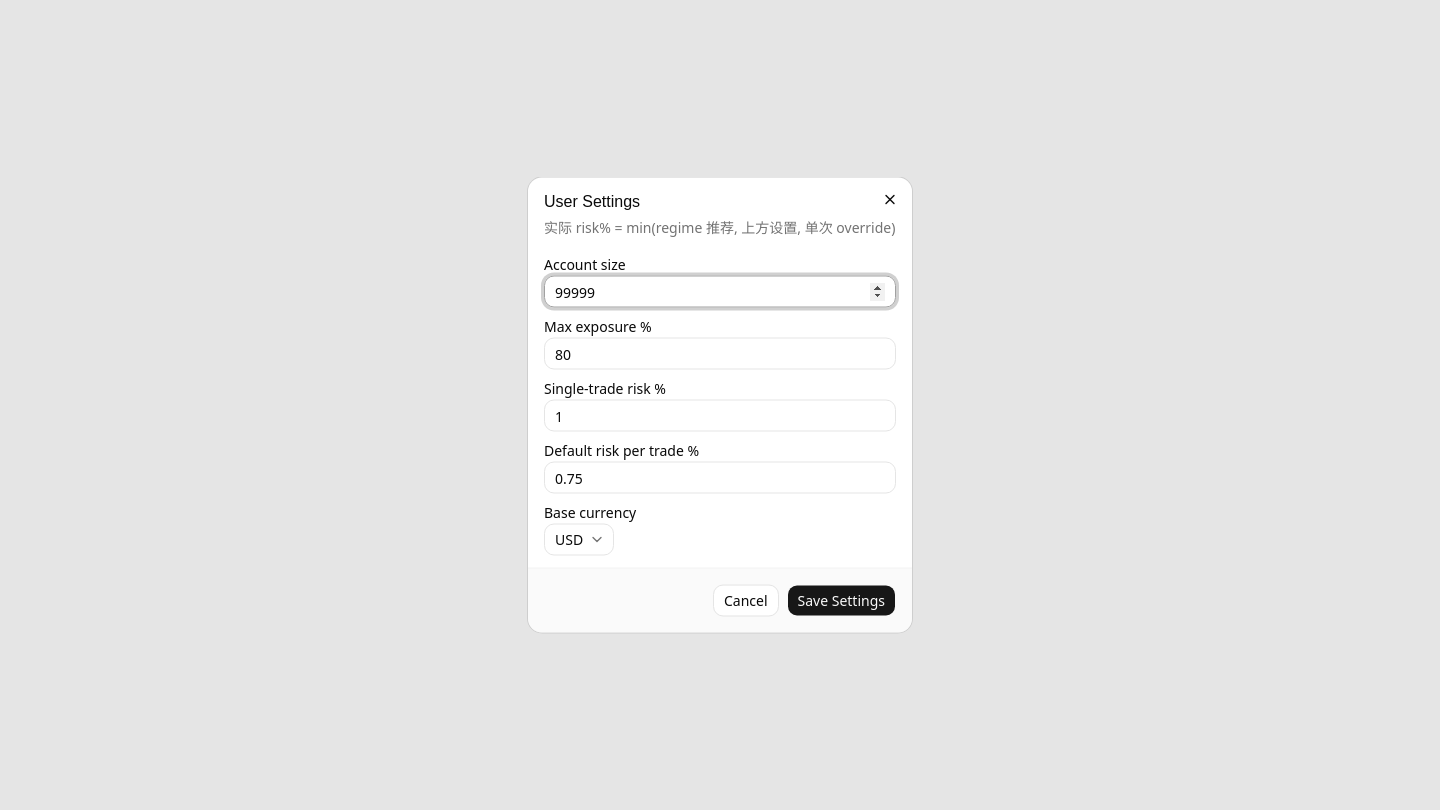
Scenario: S10 – zod validation errors › maxExposurePct=101 shows validation error
This screenshot has width=1440, height=810.
Expected: the number field labelled "Account size" holds "99999", [544,276,896,308]
Replace the text in the number field labelled "Max exposure %" with "101" at (720,354), box [544,338,896,370]
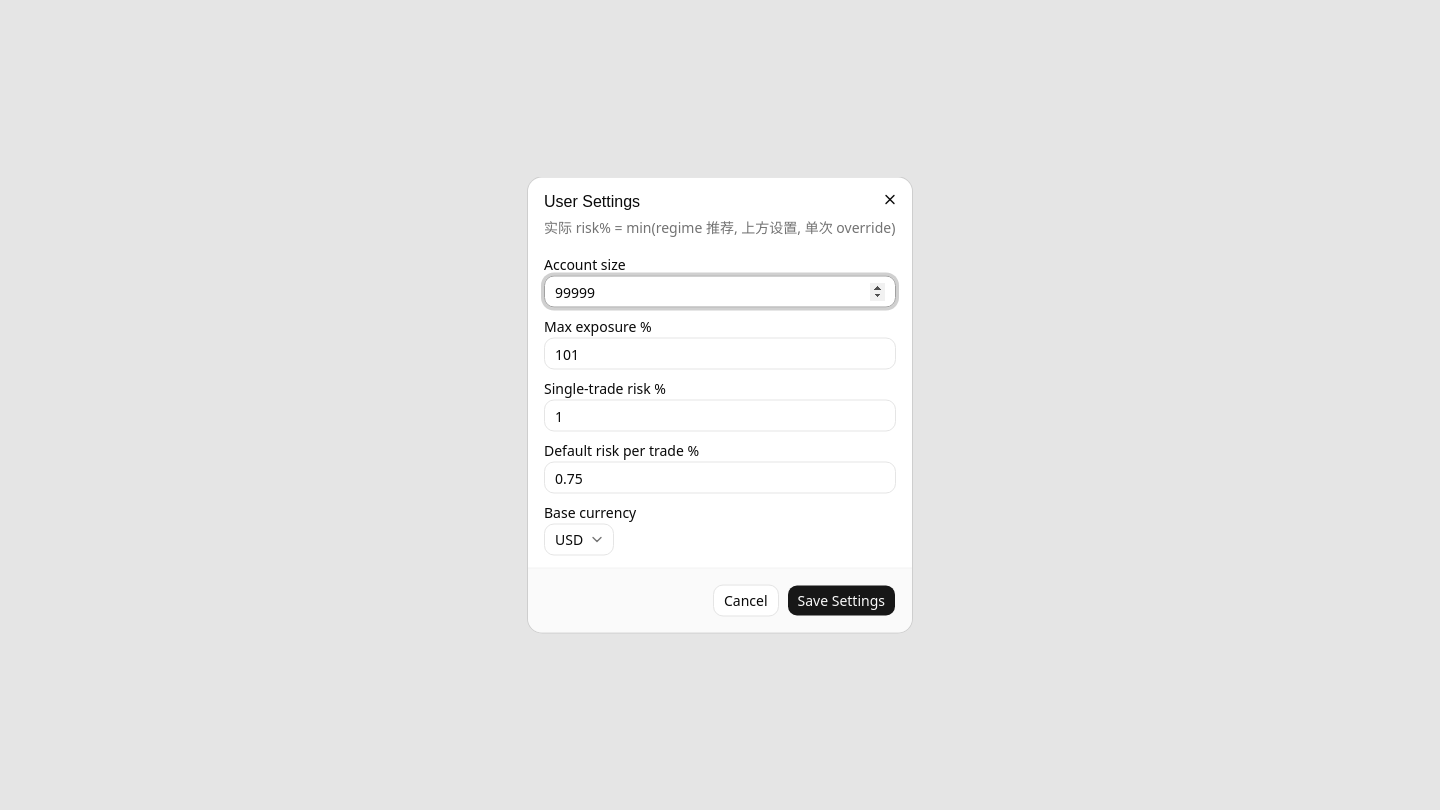
Click the button "Save Settings" at (841,600), box [786,584,896,616]
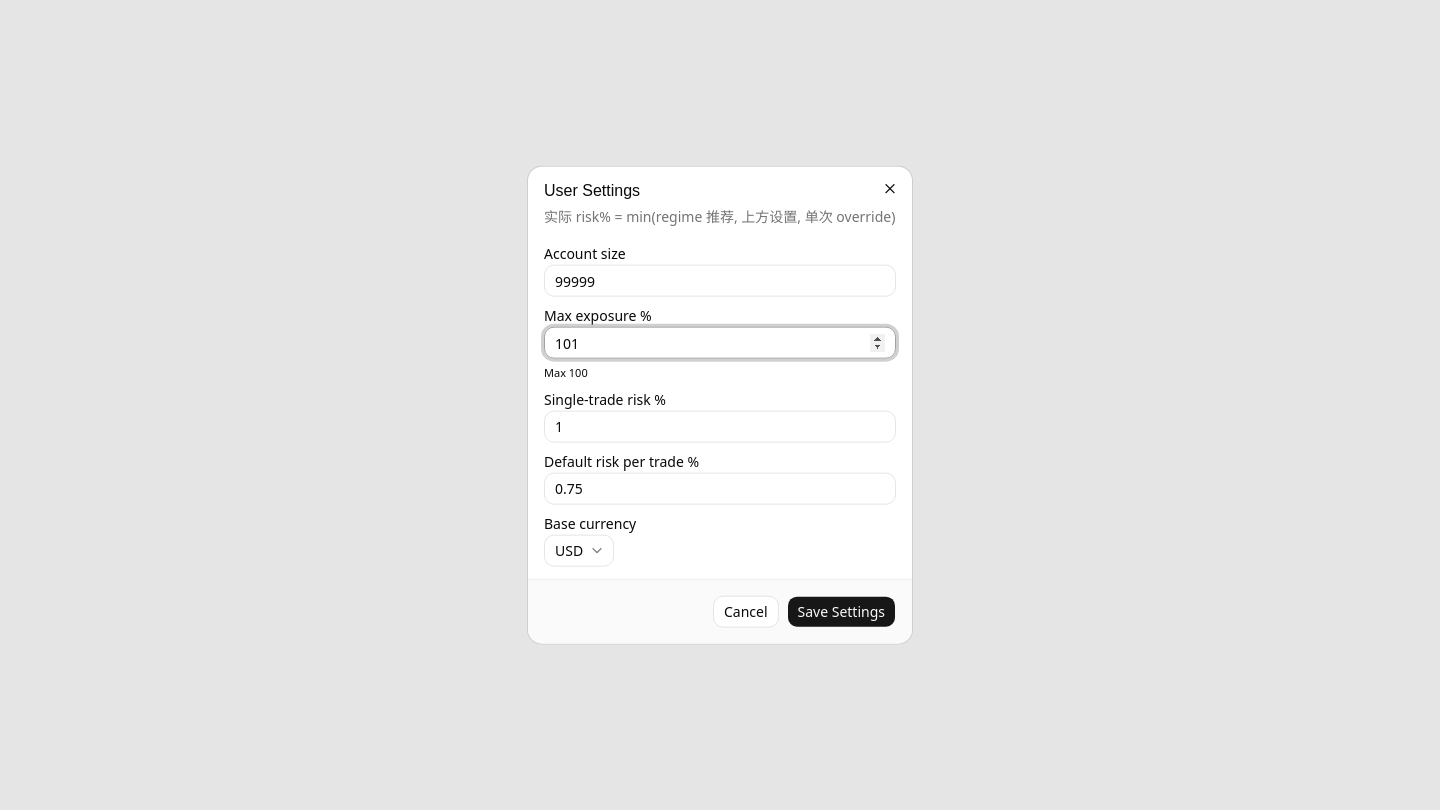
Expected: the text "Max 100" is shown, [544,365,588,380]
